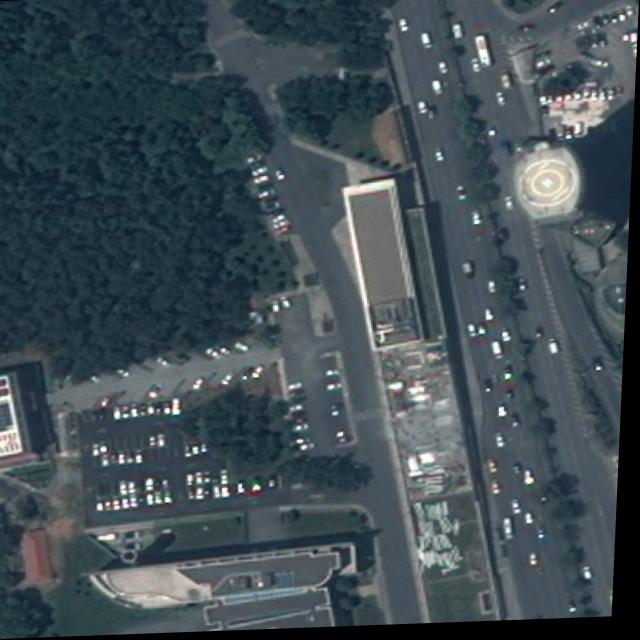Batiment: (97, 544, 360, 609), (346, 181, 426, 351), (0, 361, 59, 467), (210, 590, 342, 633), (26, 529, 62, 582)
